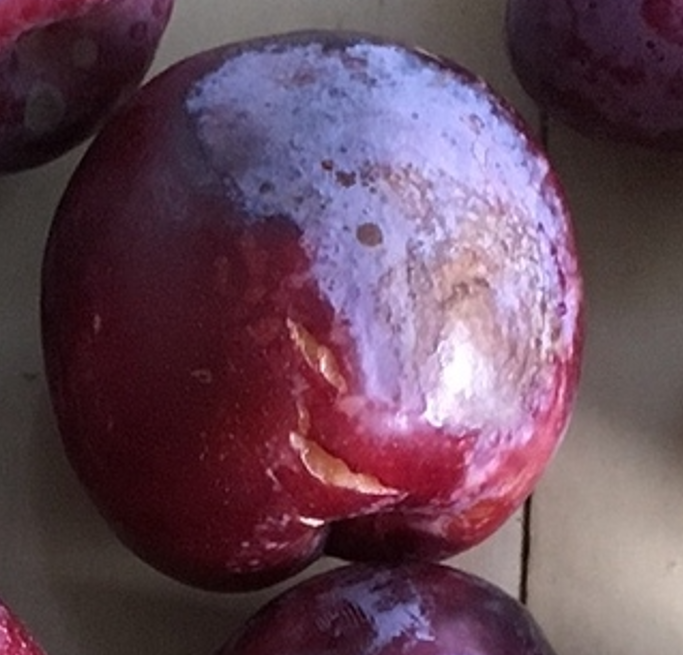plum_C: (41, 29, 588, 596)
